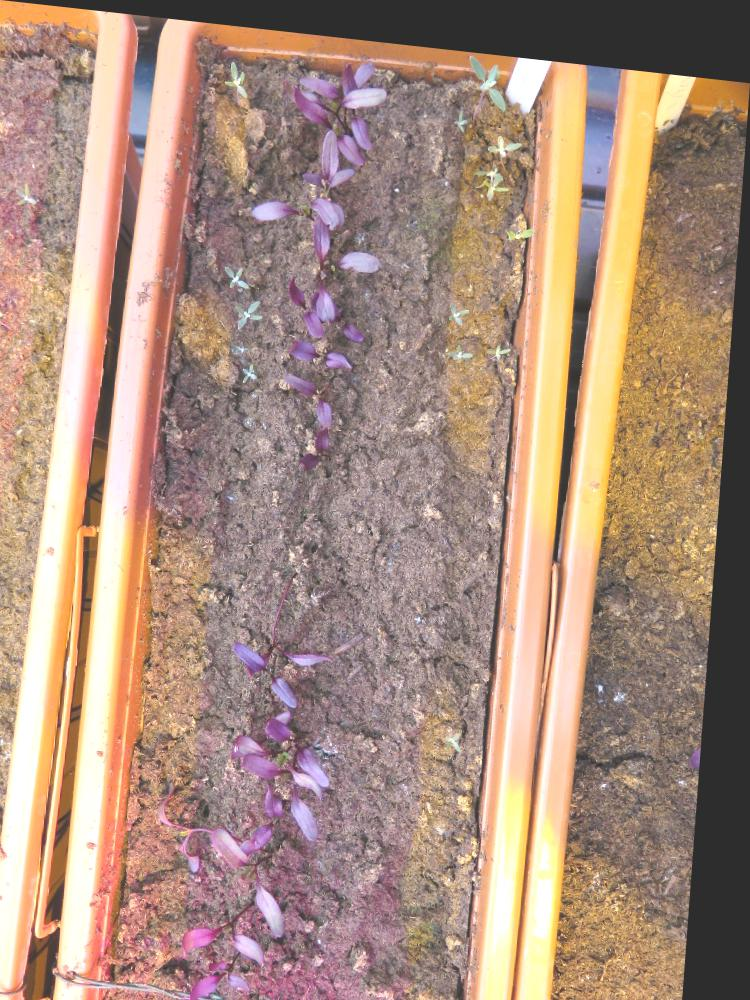weed: (465, 42, 509, 101), (486, 118, 524, 148), (236, 290, 267, 326), (222, 52, 249, 93), (225, 256, 253, 286), (506, 209, 537, 233), (450, 289, 475, 317), (15, 177, 39, 206), (489, 328, 515, 352), (451, 329, 477, 352), (453, 717, 472, 743), (452, 94, 469, 122), (245, 352, 262, 379)
